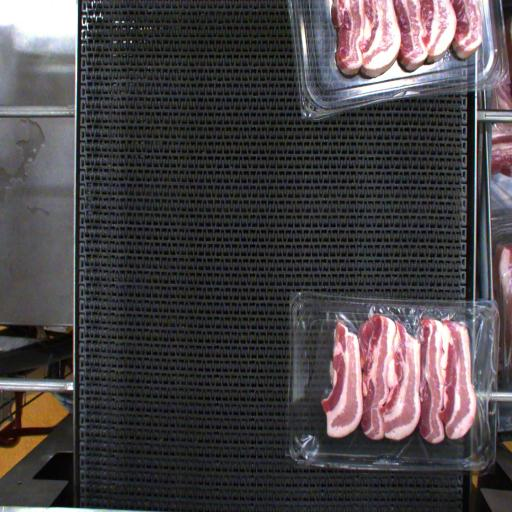unsealed: (314, 296, 482, 381)
